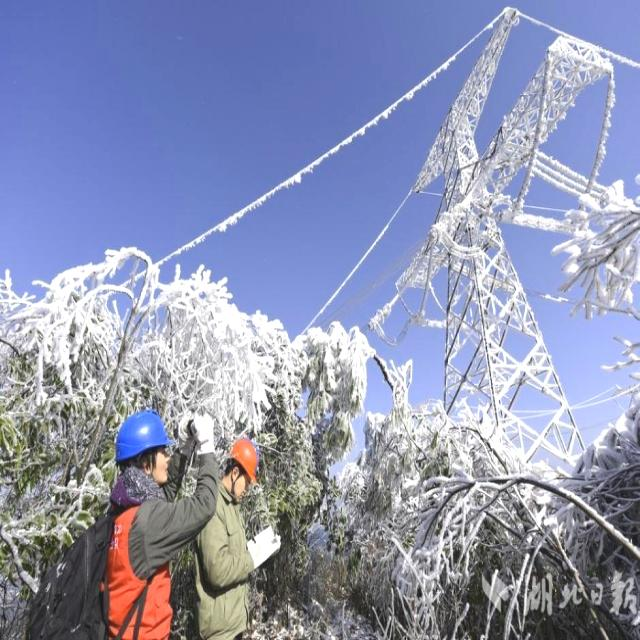face_nomask: (145, 448, 174, 485), (231, 464, 250, 504)
hand_glove: (184, 406, 217, 460)
head_helmet: (114, 411, 176, 466), (226, 438, 260, 485)
person: (97, 409, 199, 639), (192, 415, 276, 640)
